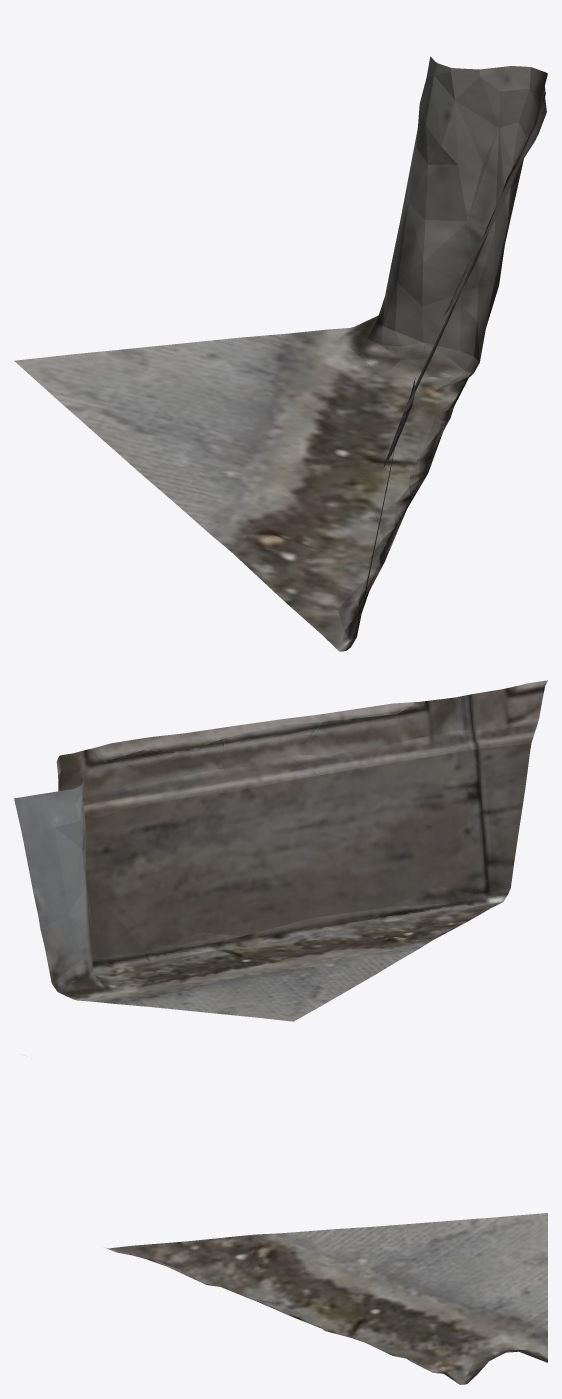
3 views of the same model, one above another, from view 1: azimuth 30°, elevation 25°; view 2: azimuth 150°, elevation 25°; view 3: azimuth 270°, elevation 25° (orthographic). The views are drawn at different scales.
Size of the model in its own units: 0.5106 by 0.3324 by 0.7788.
2 materials, 2 textured.
